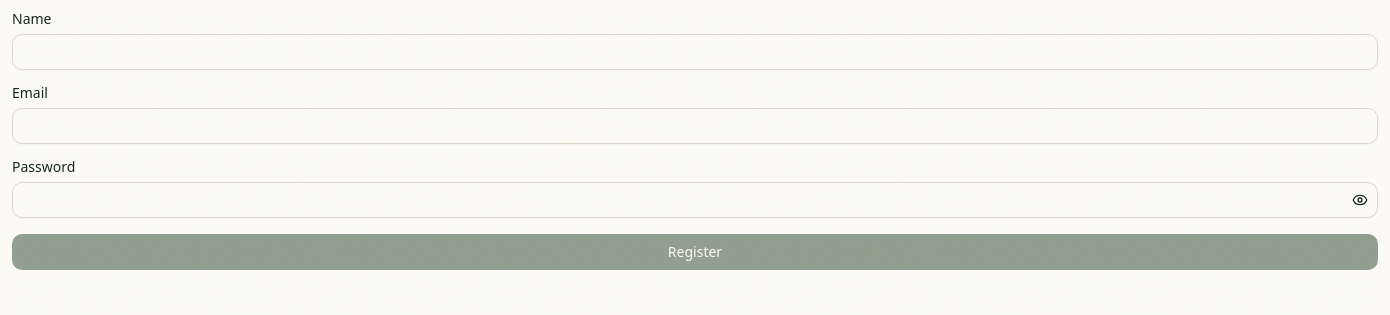
Test: RegisterForm › validates password strength
Step 1. Type "John Doe" into the field labelled "Name" → x=695, y=52, box [12,34,1378,70]
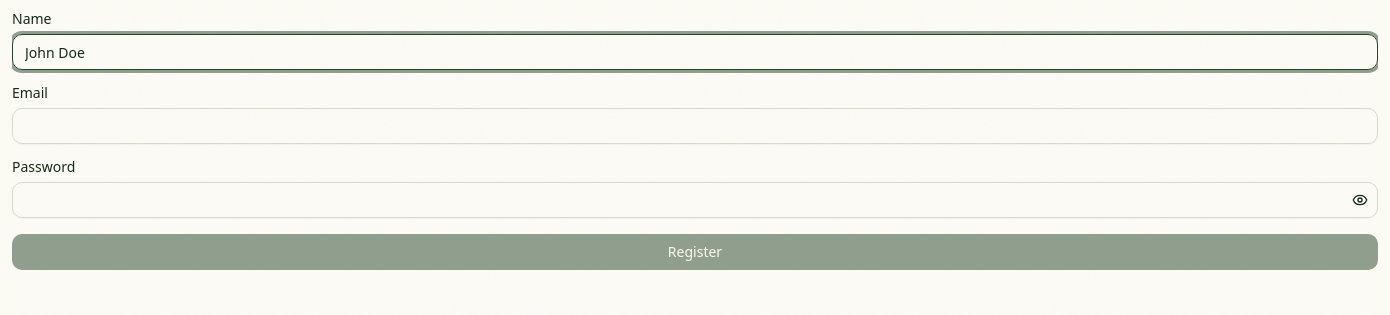
Step 2. Type "john@example.com" into the field labelled "Email" → x=695, y=126, box [12,108,1378,144]
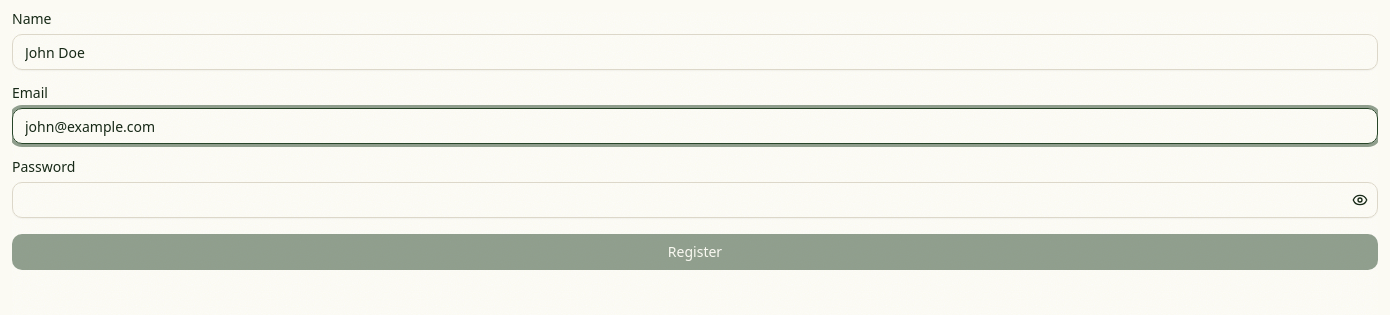
Step 3. Type "weak" into the password field labelled "Password" → x=695, y=200, box [12,182,1378,218]
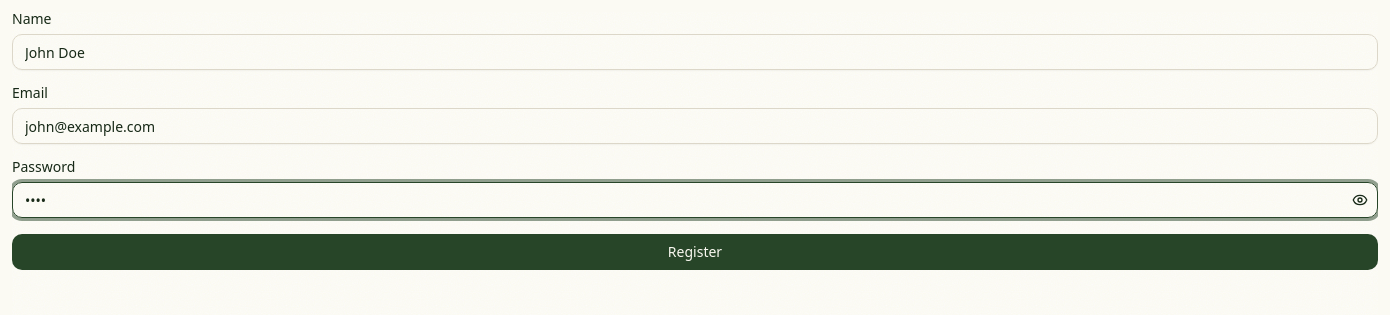
Step 4. Submit the form with test id "register-form"
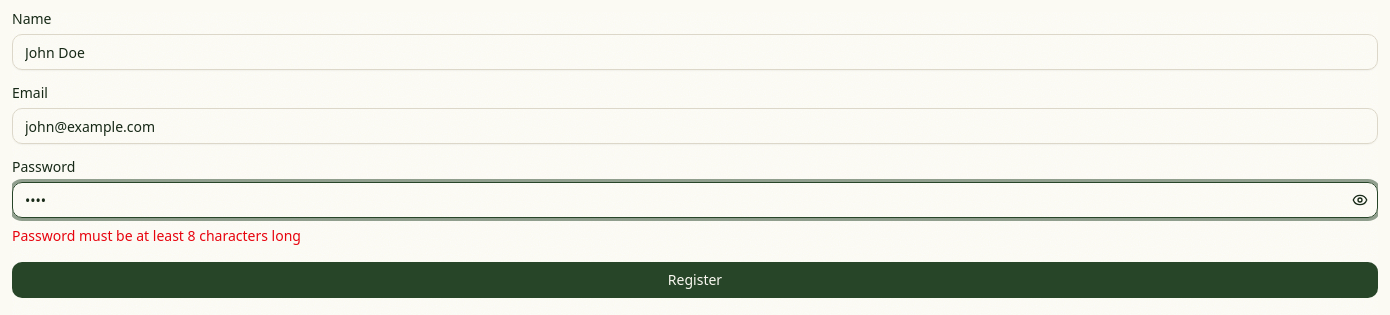
Expected: the text "Password must be at least 8 characters long" is shown, [12,226,301,245]
